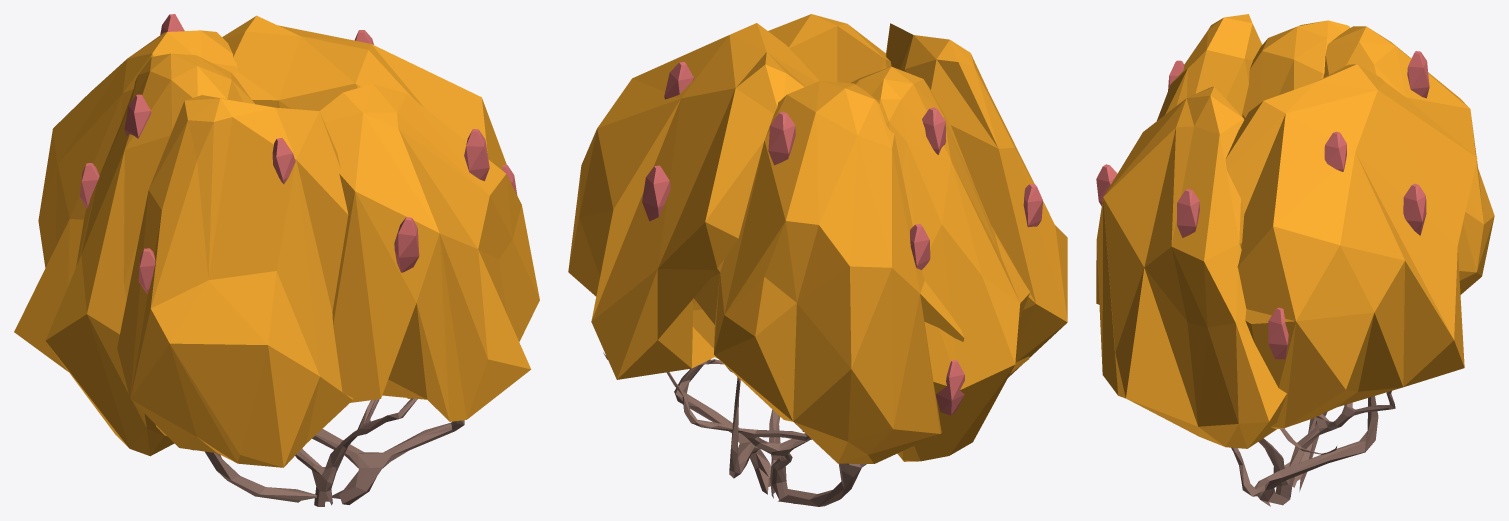
The model's file is Tree_065.glb.
The picture shows the model from 3 angles, left to right: view 1: azimuth 30°, elevation 25°; view 2: azimuth 150°, elevation 25°; view 3: azimuth 270°, elevation 25°; orthographic projection. The views are drawn at different scales.
Parts seen in each view (by area): view 1: Tree_065; view 2: Tree_065; view 3: Tree_065.
Part boxes in pixels (left/top/right/bottom): Tree_065: left=14, top=14, right=539, bottom=506; Tree_065: left=568, top=14, right=1067, bottom=506; Tree_065: left=1096, top=14, right=1494, bottom=506.
Size of the model in its own units: 3 by 2.91 by 2.48.
Materials: 1 (1 with a texture image).
